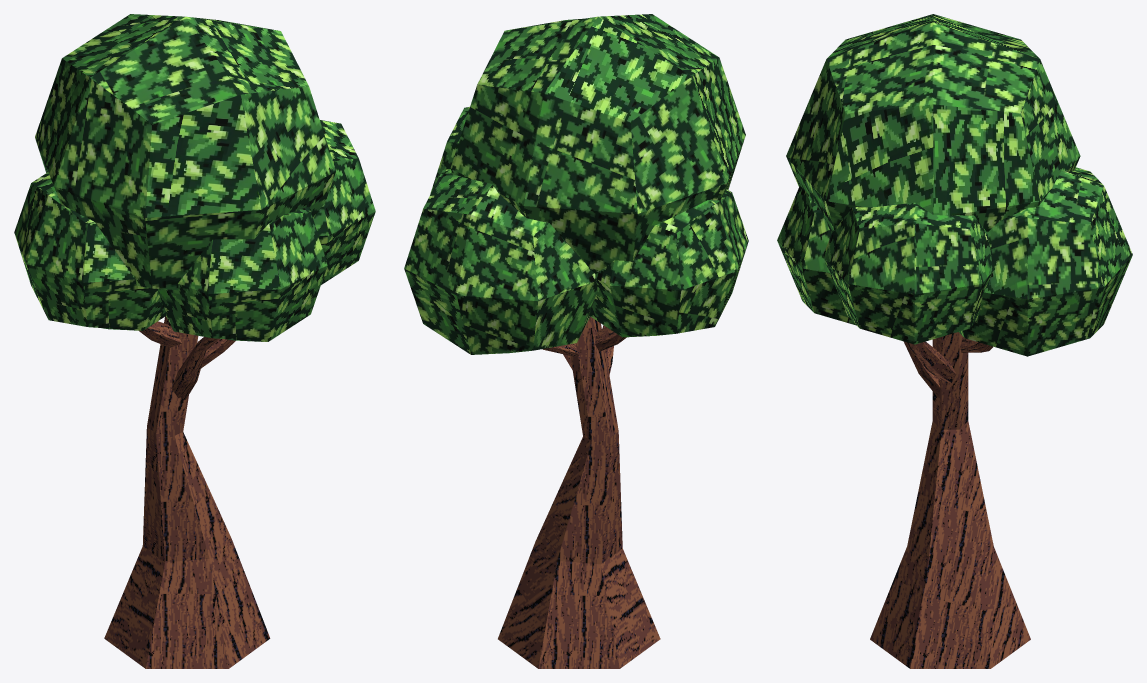
Rendered from arbusto blender.fbx.
3 views of the same model, side by side, from view 1: azimuth 30°, elevation 25°; view 2: azimuth 150°, elevation 25°; view 3: azimuth 270°, elevation 25° (orthographic). The views are drawn at different scales.
Visible parts, largest first — view 1: Cube.002; view 2: Cube.002; view 3: Cube.002.
Part boxes in pixels (x1=…): Cube.002: x1=14, y1=14, x2=375, y2=668; Cube.002: x1=404, y1=14, x2=748, y2=668; Cube.002: x1=777, y1=14, x2=1132, y2=668.
Size of the model in its own units: 164 by 311 by 164.
Materials: 2 (2 with a texture image).
